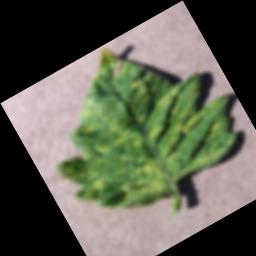Leaf_Mold: (14, 4, 256, 238)
